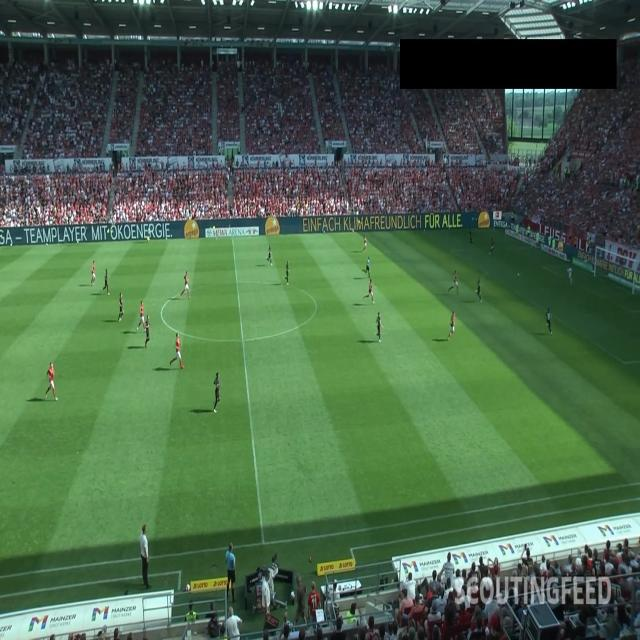ball: (517, 272, 520, 276)
